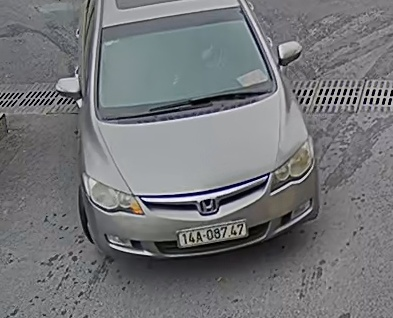vehicle plate: (169, 220, 250, 247)
